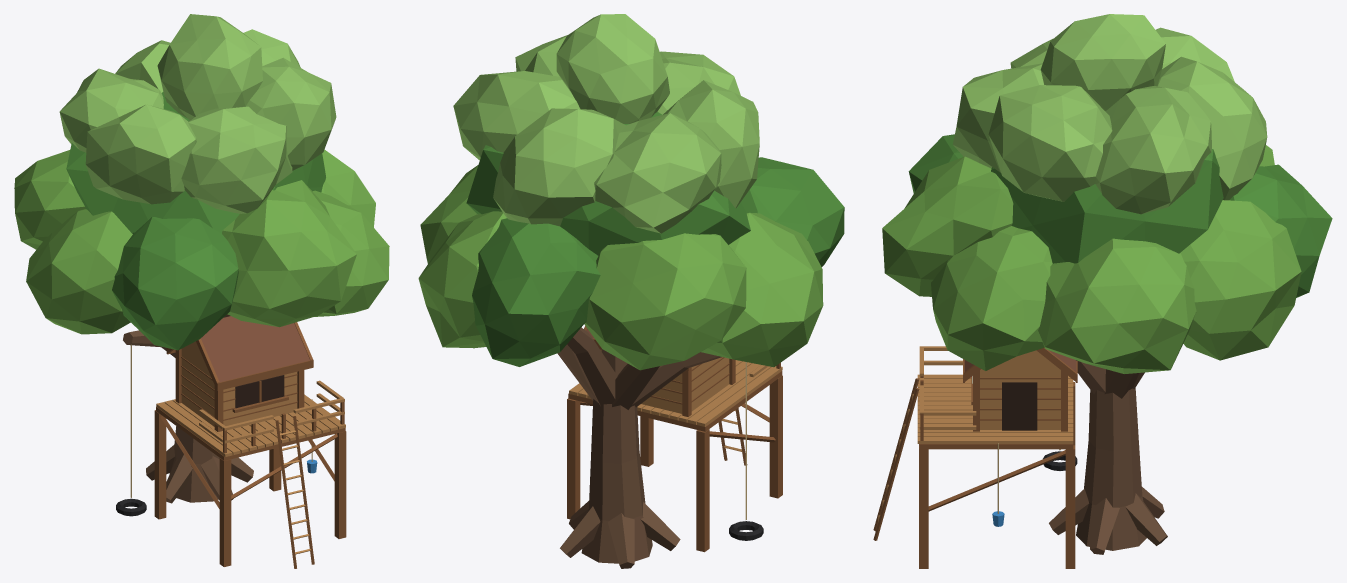
The model's file is treehouse-oak.glb.
3 views of the same model, side by side, from view 1: azimuth 30°, elevation 25°; view 2: azimuth 150°, elevation 25°; view 3: azimuth 270°, elevation 25° (orthographic). The views are drawn at different scales.
Parts seen in each view (by area): view 1: TreehouseOak_LeavesLight, TreehouseOak_Leaves, TreehouseOak_LeavesDark, TreehouseOak_Plank2, TreehouseOak_Plank, TreehouseOak_Roof, TreehouseOak_Trunk, TreehouseOak_Dark; view 2: TreehouseOak_LeavesLight, TreehouseOak_Leaves, TreehouseOak_LeavesDark, TreehouseOak_Trunk, TreehouseOak_Plank2, TreehouseOak_Plank, TreehouseOak_Tire; view 3: TreehouseOak_Leaves, TreehouseOak_LeavesLight, TreehouseOak_LeavesDark, TreehouseOak_Trunk, TreehouseOak_Plank, TreehouseOak_Plank2, TreehouseOak_Dark.
Part boxes in pixels (bbox=[...]): TreehouseOak_LeavesLight: bbox=[59, 14, 336, 213]; TreehouseOak_Leaves: bbox=[14, 149, 389, 334]; TreehouseOak_LeavesDark: bbox=[66, 92, 325, 350]; TreehouseOak_Plank2: bbox=[154, 322, 346, 568]; TreehouseOak_Plank: bbox=[156, 341, 345, 554]; TreehouseOak_Roof: bbox=[201, 316, 309, 382]; TreehouseOak_Trunk: bbox=[123, 314, 253, 503]; TreehouseOak_Dark: bbox=[235, 375, 284, 408]; TreehouseOak_LeavesLight: bbox=[453, 14, 759, 233]; TreehouseOak_Leaves: bbox=[418, 165, 823, 370]; TreehouseOak_LeavesDark: bbox=[466, 112, 844, 366]; TreehouseOak_Trunk: bbox=[557, 327, 721, 568]; TreehouseOak_Plank2: bbox=[567, 326, 782, 552]; TreehouseOak_Plank: bbox=[569, 349, 782, 451]; TreehouseOak_Tire: bbox=[729, 521, 763, 540]; TreehouseOak_Leaves: bbox=[882, 145, 1301, 373]; TreehouseOak_LeavesLight: bbox=[953, 14, 1267, 214]; TreehouseOak_LeavesDark: bbox=[908, 134, 1332, 297]; TreehouseOak_Trunk: bbox=[1049, 360, 1167, 554]; TreehouseOak_Plank: bbox=[878, 346, 1073, 522]; TreehouseOak_Plank2: bbox=[873, 347, 1077, 568]; TreehouseOak_Dark: bbox=[1002, 382, 1037, 430].
Bounding box in the file's own units: 49.29 × 66.53 × 52.19.
